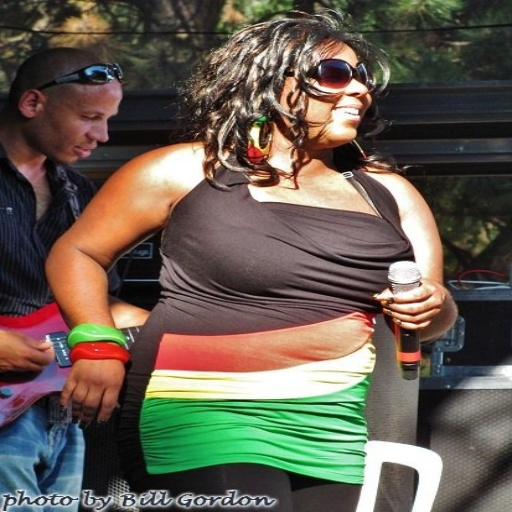hand: (43, 307, 123, 434), (381, 276, 450, 330), (0, 330, 52, 371)
